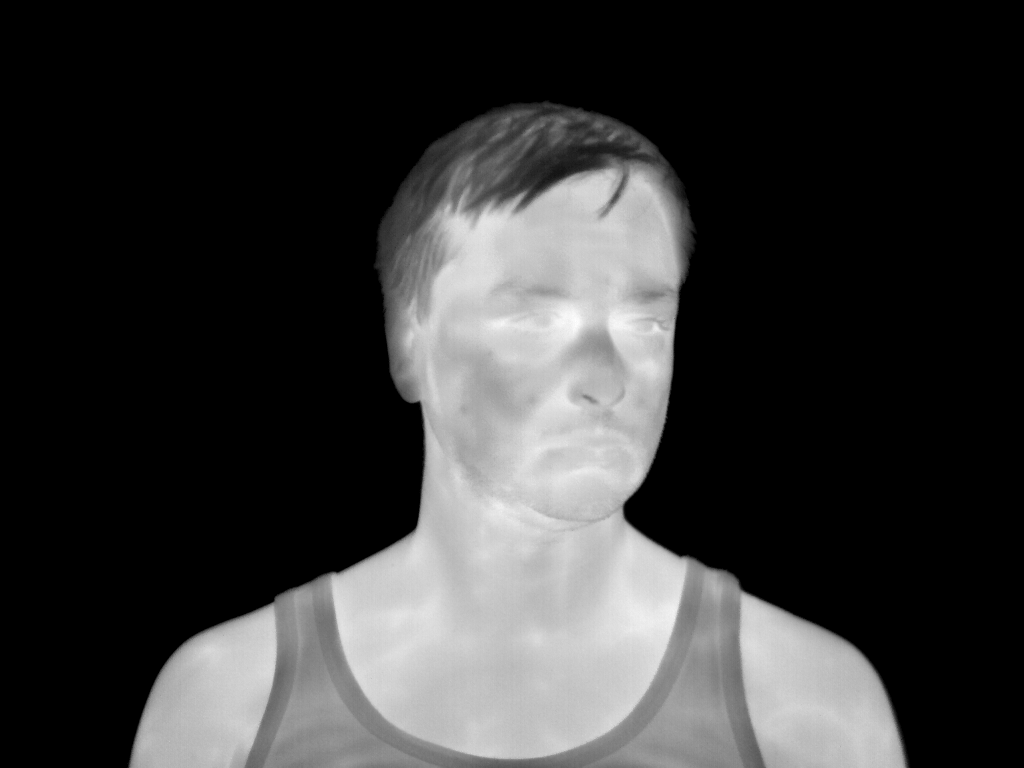face: (448, 181, 678, 522)
